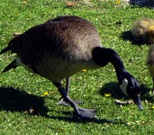goose: (1, 14, 146, 125)
